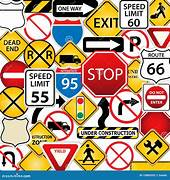stop: (82, 51, 127, 97)
